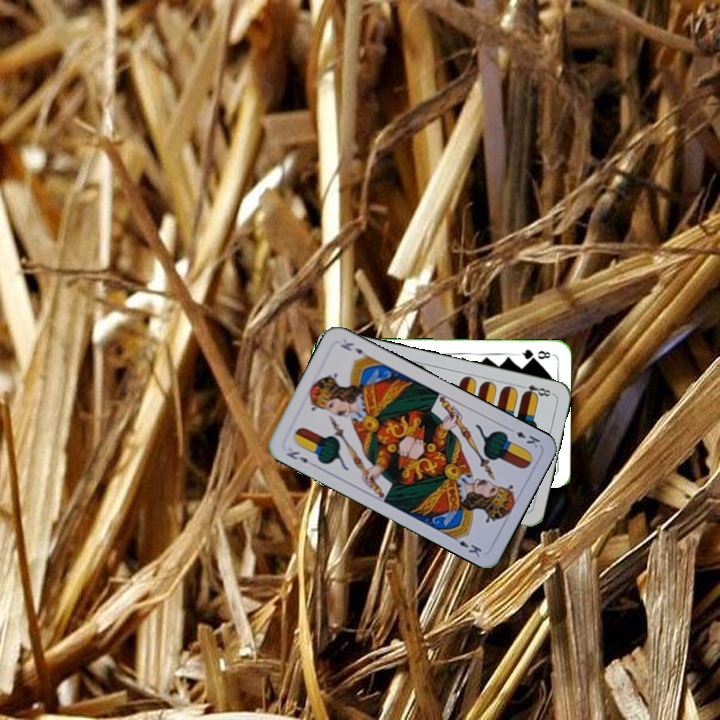E8: (515, 381, 555, 400)
EK: (504, 423, 543, 451), (282, 447, 310, 466)
G8: (514, 345, 553, 362)
